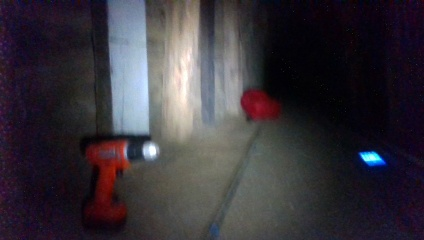backpack: (239, 89, 281, 123)
cellphone: (354, 148, 390, 171)
drill: (88, 135, 161, 232)
